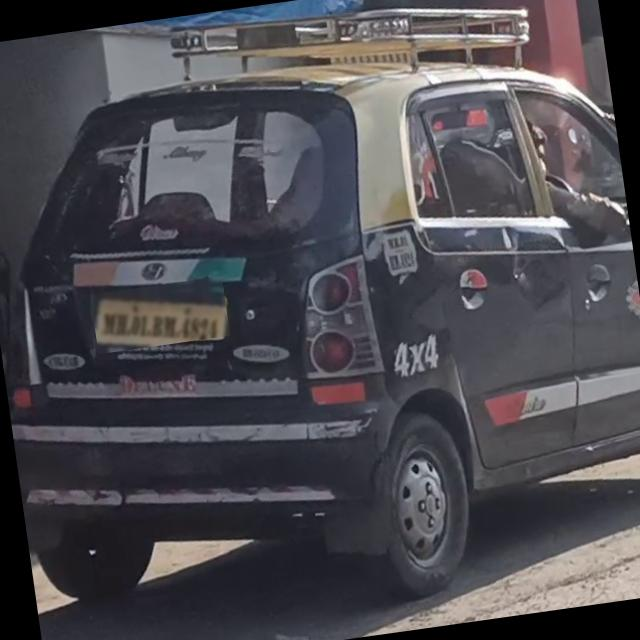Plate: (92, 277, 232, 355)
